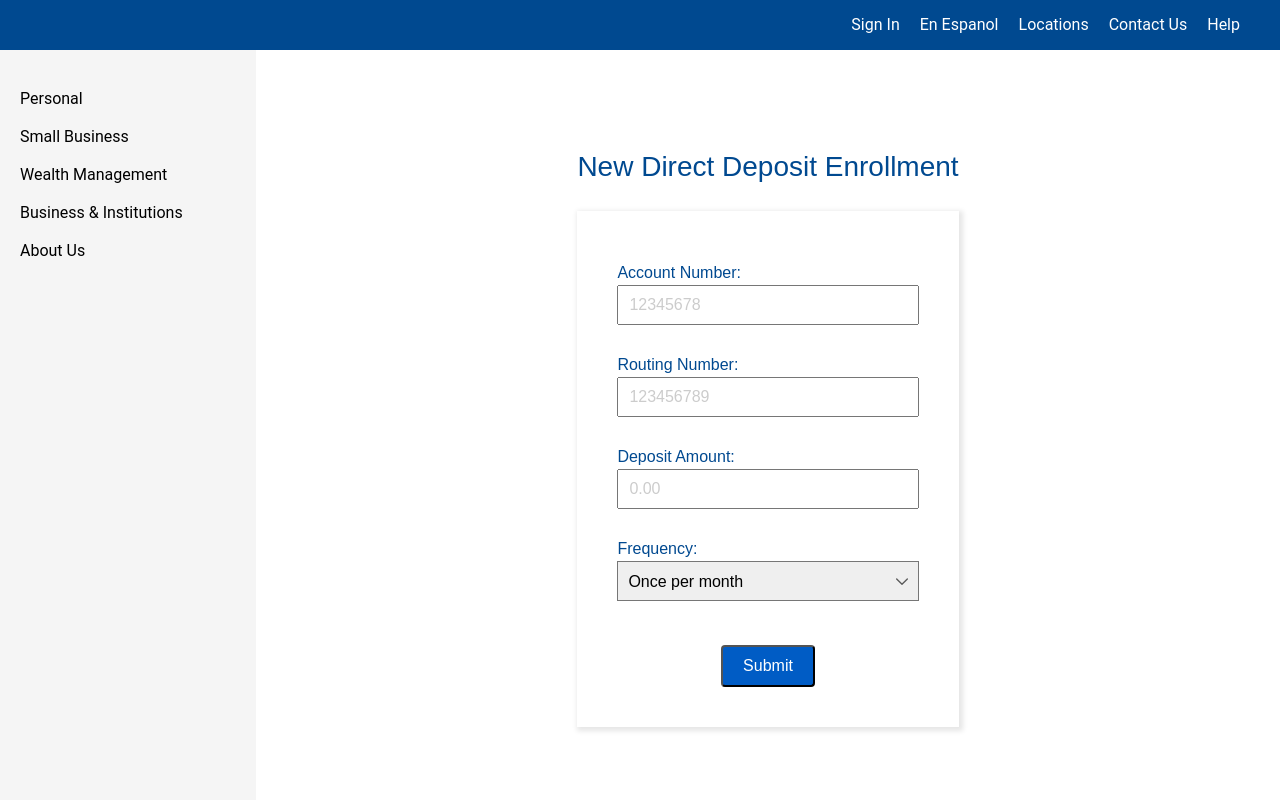
Test: Enrollment › account number is the correct length › should account number fewer than 8 digits
The image size is (1280, 800).
Type "1234567" into the number field with id "accountNumber".
click(768, 305); type("1234567")  # box [617,285,918,325]
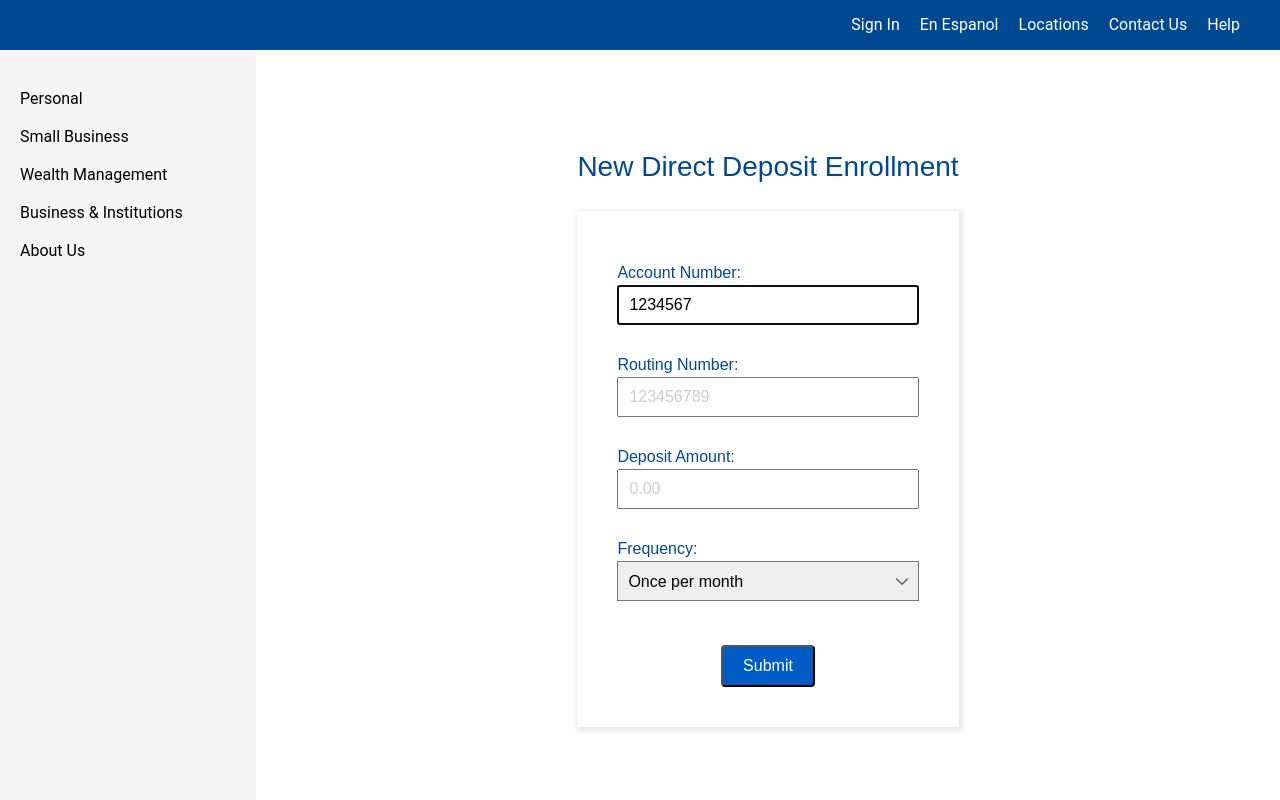
Submit the form, box [577,211,958,727]
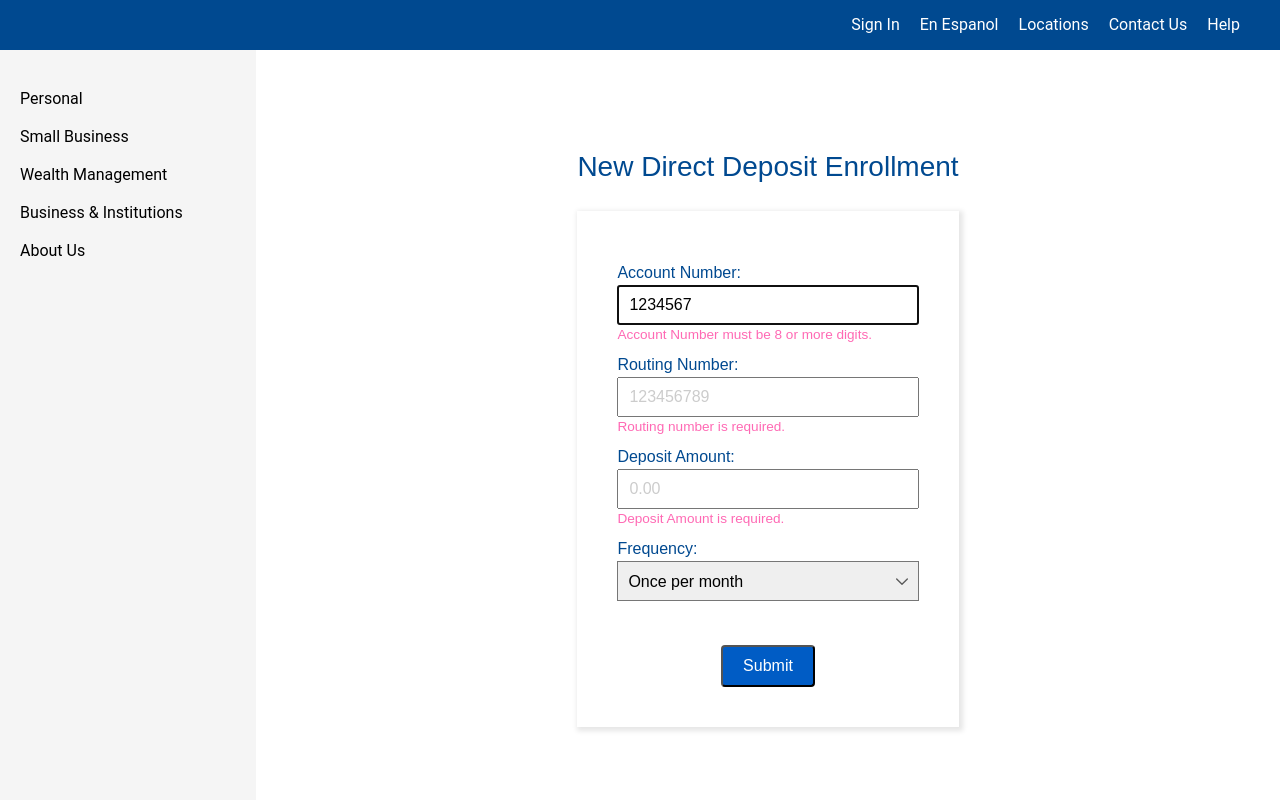
Now the text "Account Number must be 8 or more digits." is shown, box [617,327,872,343]
